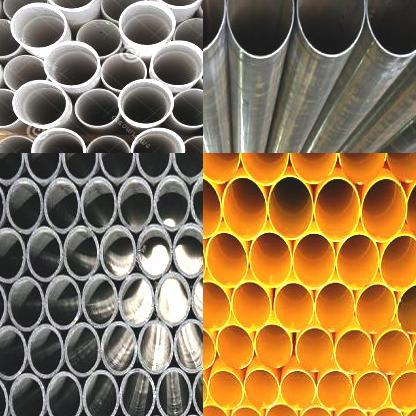pipe: (295, 0, 368, 59), (225, 0, 295, 61), (361, 177, 408, 243), (314, 178, 360, 242), (268, 176, 314, 240), (222, 177, 267, 240), (367, 0, 416, 56), (117, 78, 174, 126), (12, 80, 70, 127), (43, 41, 100, 88), (119, 1, 176, 48), (11, 2, 68, 48), (336, 232, 380, 290), (292, 234, 336, 290), (248, 232, 292, 288), (151, 40, 203, 87), (206, 232, 248, 287), (7, 178, 43, 235), (380, 234, 416, 291), (356, 283, 396, 334), (274, 281, 314, 332), (26, 227, 63, 282), (44, 178, 80, 234), (231, 281, 272, 330), (314, 282, 354, 332), (7, 277, 44, 331), (153, 176, 190, 230), (100, 225, 136, 280), (63, 225, 99, 280), (137, 224, 173, 279), (154, 273, 191, 326), (81, 177, 116, 233), (28, 324, 64, 378), (64, 322, 100, 376), (100, 322, 136, 376), (138, 320, 174, 374), (45, 276, 81, 330), (82, 274, 118, 328), (119, 274, 154, 328), (76, 19, 122, 59), (118, 178, 152, 232), (100, 52, 148, 90), (74, 89, 120, 127), (119, 368, 155, 416), (156, 368, 192, 416), (373, 330, 412, 374), (3, 54, 48, 92), (216, 325, 254, 370), (335, 330, 373, 374), (296, 328, 334, 372), (173, 223, 203, 278), (255, 324, 292, 368), (47, 370, 82, 416), (83, 370, 118, 416), (239, 153, 288, 185), (174, 320, 203, 373), (352, 371, 390, 411), (339, 153, 387, 184), (0, 325, 27, 380), (244, 368, 280, 409), (208, 370, 244, 410), (31, 127, 86, 153), (130, 127, 185, 153), (0, 228, 26, 283), (10, 374, 44, 416), (289, 153, 336, 183), (316, 370, 352, 409), (280, 370, 316, 409), (203, 281, 231, 330), (170, 88, 203, 129), (24, 153, 62, 184), (203, 175, 221, 239), (173, 18, 203, 55), (203, 153, 240, 183), (62, 153, 98, 183), (99, 153, 135, 183), (390, 370, 416, 410), (134, 153, 171, 181), (101, 0, 147, 22), (397, 284, 416, 335), (2, 0, 48, 20), (171, 153, 203, 181), (387, 153, 416, 182), (86, 134, 130, 153), (0, 19, 21, 58), (0, 88, 20, 128), (0, 153, 24, 186), (190, 175, 203, 231), (0, 135, 36, 153), (191, 271, 203, 325), (407, 174, 416, 238), (43, 0, 100, 10), (203, 325, 215, 370), (192, 367, 203, 416), (265, 404, 299, 416), (181, 135, 203, 153), (299, 406, 334, 416), (230, 406, 264, 416), (369, 407, 404, 416), (203, 405, 230, 416), (333, 408, 369, 416)
